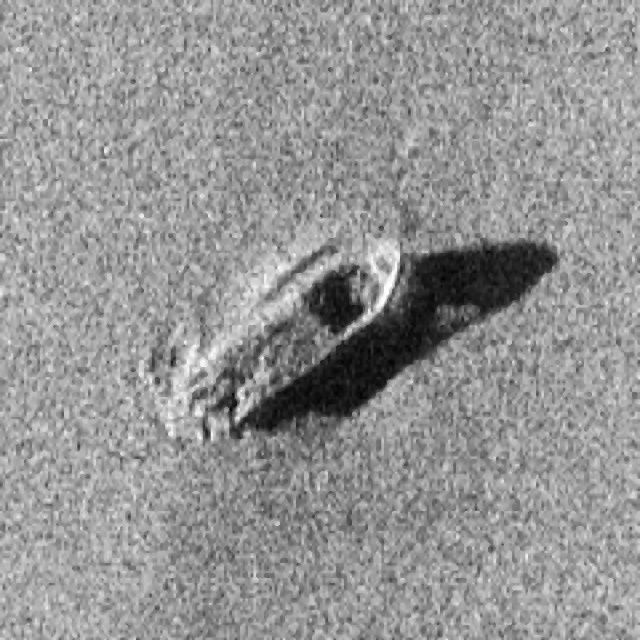Ship: (146, 209, 430, 451)
